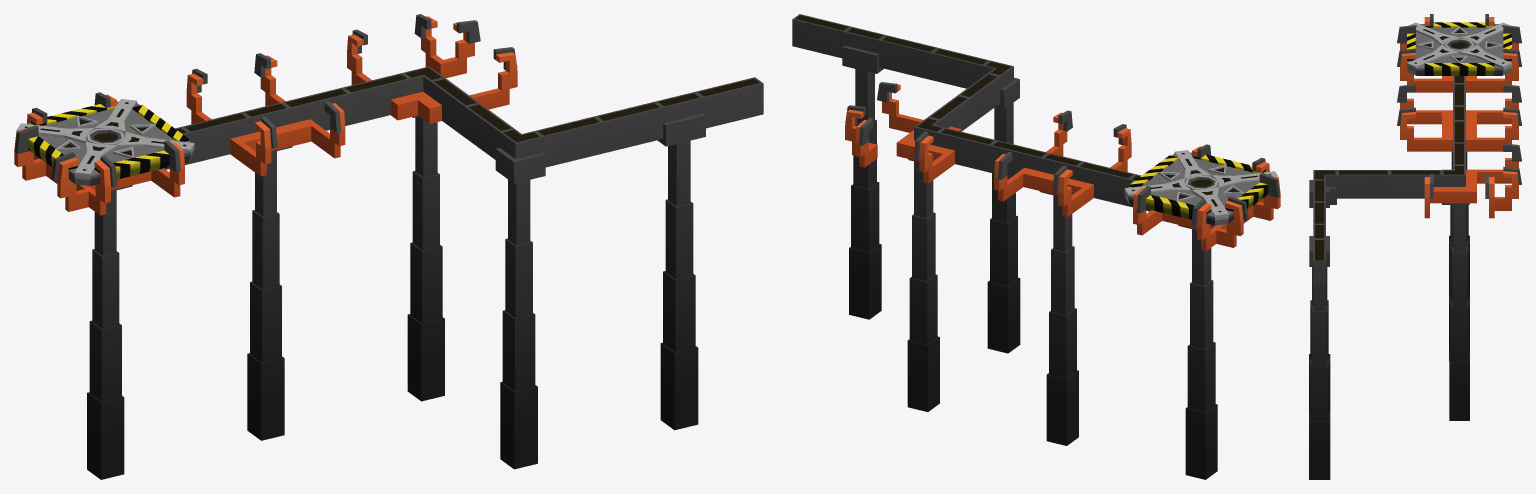
Rendered from PlataformasMoviles01.fbx.
3 views of the same model, side by side, from view 1: azimuth 30°, elevation 25°; view 2: azimuth 150°, elevation 25°; view 3: azimuth 270°, elevation 25° (orthographic). The views are drawn at different scales.
Parts seen in each view (by area): view 1: RielParada03, RielParada02, Riel01, Riel02, RielParada01, Plataforma; view 2: RielParada02, RielParada03, Riel01, RielParada01, Riel02, Plataforma; view 3: RielParada03, RielParada02, Riel01, Plataforma, RielParada01, Riel02.
Boxes of the visible parts, x1,y1,x2,y2 form: RielParada03: (342, 14, 517, 401); RielParada02: (182, 53, 350, 440); Riel01: (595, 77, 763, 430); Riel02: (465, 103, 603, 469); RielParada01: (14, 92, 189, 479); Plataforma: (16, 99, 194, 185); RielParada02: (990, 110, 1135, 445); RielParada03: (845, 82, 996, 411); Riel01: (792, 14, 937, 319); RielParada01: (1128, 144, 1280, 479); Riel02: (931, 48, 1020, 353); Plataforma: (1124, 150, 1278, 225); RielParada03: (1389, 143, 1521, 420); RielParada02: (1397, 84, 1521, 361); Riel01: (1309, 202, 1330, 479); Plataforma: (1407, 22, 1511, 75); RielParada01: (1397, 14, 1521, 294); Riel02: (1309, 170, 1389, 412).
Size of the model in its own units: 311 by 162 by 120.
1 material, 1 textured.
